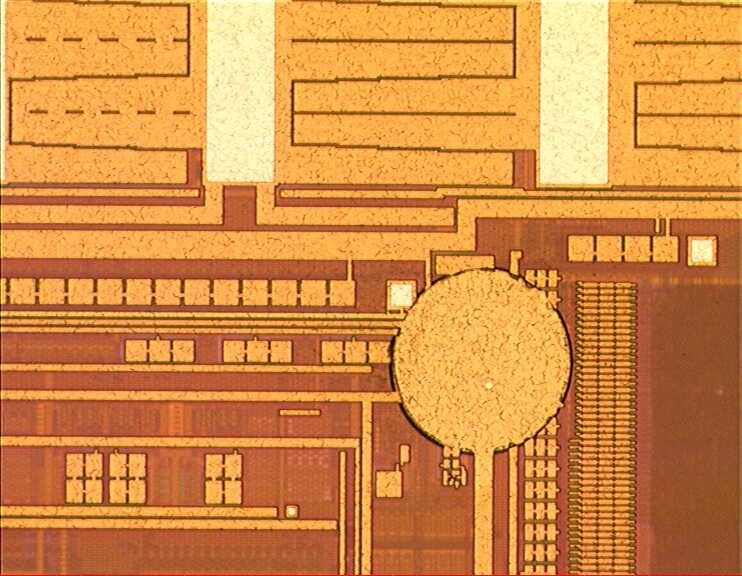BLOCK ETCH: (388, 264, 576, 459)
